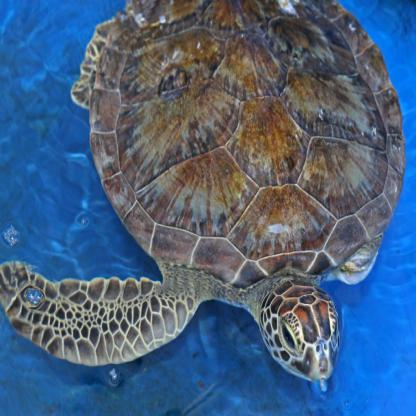turtle: (256, 272, 347, 398)
